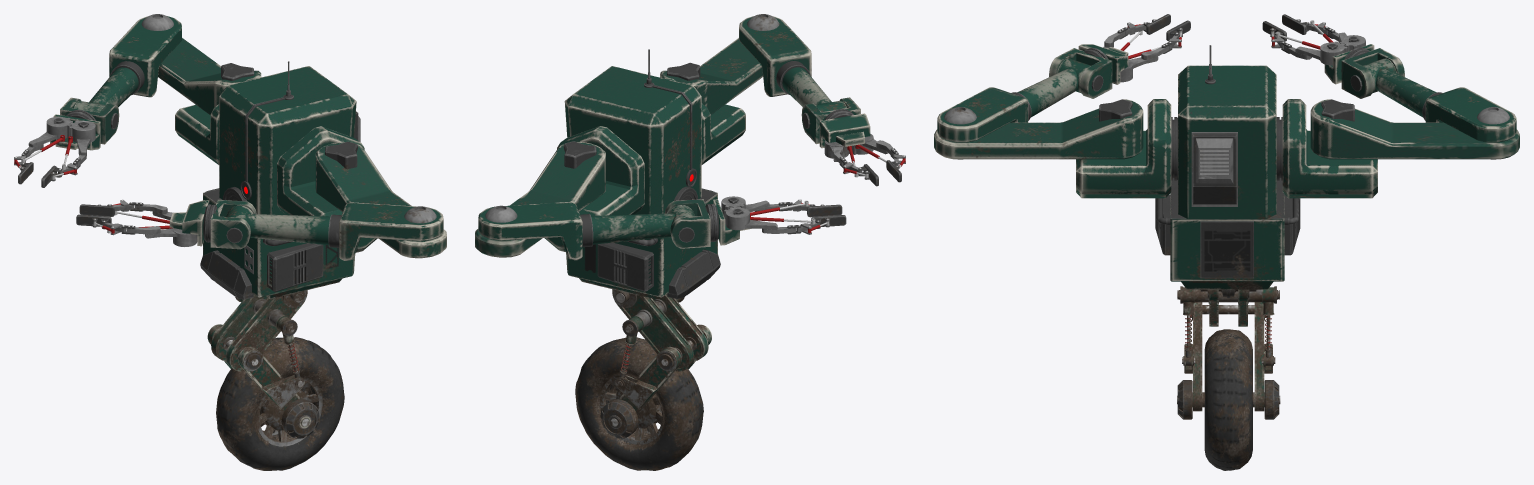
The model's file is robot.glb.
The picture shows the model from 3 angles, left to right: view 1: azimuth 30°, elevation 25°; view 2: azimuth 150°, elevation 25°; view 3: azimuth 270°, elevation 25°; orthographic projection.
Parts seen in each view (by area): view 1: pCube19, pTorus5, Bras (×2), pCylinder16 (×2), Base (×2), pCylinder18 (×2), pCube34 (×2), polySurface2, pCylinder22 (×2), RadiateurGauche, pCube26, pCube16 (×2) (+6 smaller); view 2: pCube19, pTorus5, Bras (×2), pCylinder16 (×2), Base (×2), pCylinder18 (×2), polySurface2, pCube34 (×2), pCylinder22 (×2), RadiateurDroit, pCube3 (×2), pCube26 (+6 smaller); view 3: Bras (×2), pCube19, Base (×2), pTorus5, pCylinder16 (×2), pCube24, pCube25, pCylinder18 (×2), pCylinder22 (×2), pCube35 (×2), pCube22, pCube21 (+6 smaller).
Part boxes in pixels (<box>): pCube19: <box>219,66,356,214</box>; pTorus5: <box>216,337,344,470</box>; Bras (×2): <box>158,38,446,258</box>; pCylinder16 (×2): <box>109,16,443,260</box>; Base (×2): <box>175,77,376,252</box>; pCylinder18 (×2): <box>89,67,330,245</box>; pCube34 (×2): <box>211,290,307,371</box>; polySurface2: <box>203,189,354,297</box>; pCylinder22 (×2): <box>60,97,256,249</box>; RadiateurGauche: <box>267,243,323,292</box>; pCube26: <box>200,250,253,299</box>; pCube16 (×2): <box>221,63,357,169</box>; pCube19: <box>564,66,701,214</box>; pTorus5: <box>575,337,703,470</box>; Bras (×2): <box>475,38,762,257</box>; pCylinder16 (×2): <box>478,16,811,260</box>; Base (×2): <box>544,77,745,251</box>; pCylinder18 (×2): <box>591,67,831,244</box>; polySurface2: <box>566,189,717,297</box>; pCube34 (×2): <box>612,289,708,371</box>; pCylinder22 (×2): <box>664,97,860,248</box>; RadiateurDroit: <box>597,242,653,292</box>; pCube3 (×2): <box>713,113,870,245</box>; pCube26: <box>667,249,720,298</box>; Bras (×2): <box>934,99,1519,159</box>; pCube19: <box>1178,65,1276,218</box>; Base (×2): <box>1076,99,1377,198</box>; pTorus5: <box>1204,329,1252,470</box>; pCylinder16 (×2): <box>937,87,1516,142</box>; pCube24: <box>1172,219,1282,280</box>; pCube25: <box>1200,221,1253,278</box>; pCylinder18 (×2): <box>1017,68,1436,117</box>; pCylinder22 (×2): <box>1049,48,1404,98</box>; pCube35 (×2): <box>1193,302,1264,411</box>; pCube22: <box>1196,138,1233,183</box>; pCube21: <box>1193,134,1236,204</box>.
Size of the model in its own units: 66.63 by 87.63 by 111.
Materials: 1 (1 with a texture image).
